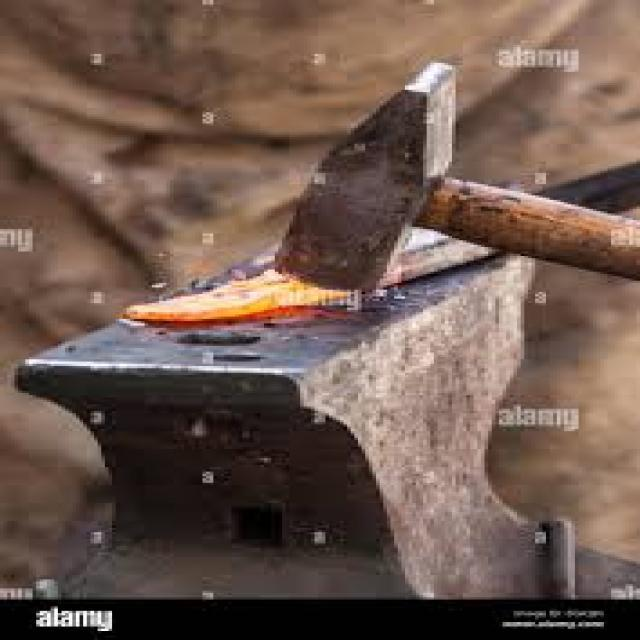hammer: (242, 52, 640, 296)
